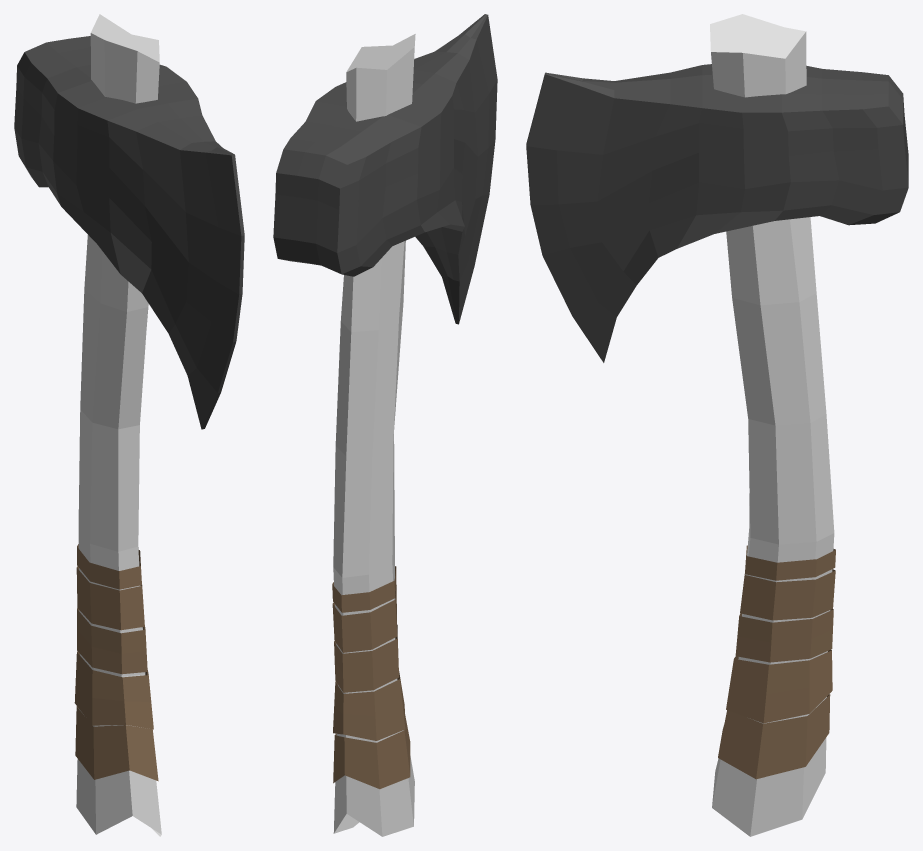
The model's file is Hacha.fbx.
3 renders of one model, left to right at view 1: azimuth 30°, elevation 25°; view 2: azimuth 150°, elevation 25°; view 3: azimuth 270°, elevation 25°, orthographic. The views are drawn at different scales.
Parts seen in each view (by area): view 1: Hacha; view 2: Hacha; view 3: Hacha.
Boxes of the visible parts, x1,y1,x2,y2 form: Hacha: [14, 14, 244, 836]; Hacha: [273, 14, 497, 836]; Hacha: [526, 14, 908, 836].
Size of the model in its own units: 42.81 by 306 by 134.
